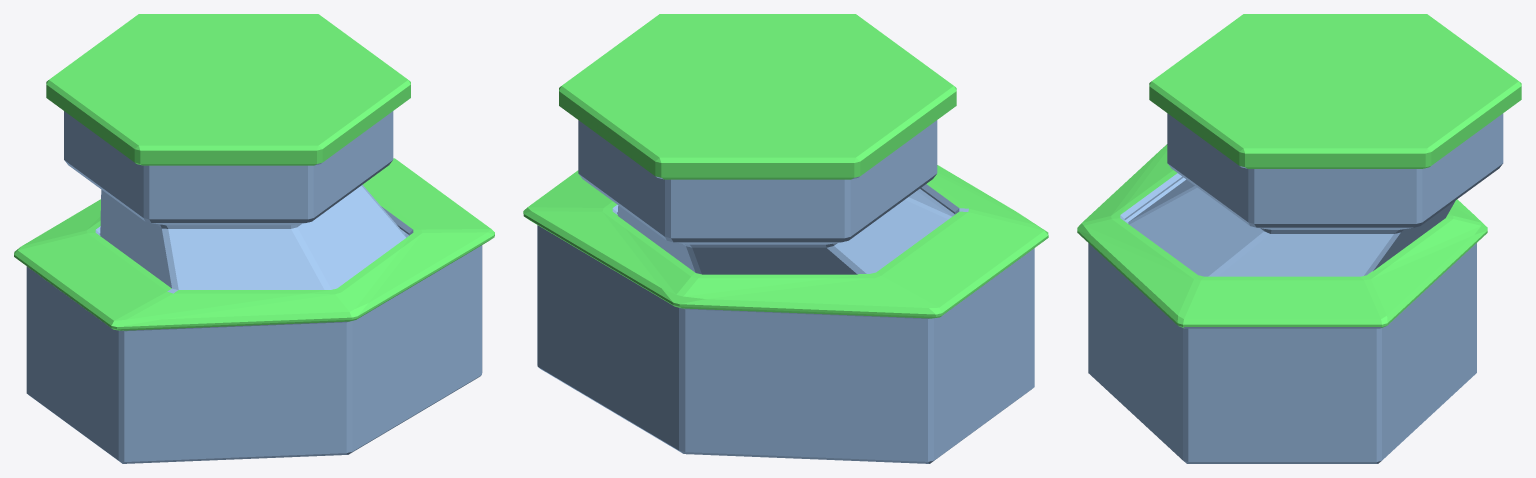
The model's file is Rock 2.fbx.
3 renders of one model, left to right at view 1: azimuth 30°, elevation 25°; view 2: azimuth 150°, elevation 25°; view 3: azimuth 270°, elevation 25°, orthographic. The views are drawn at different scales.
Visible parts, largest first — view 1: Rock 2; view 2: Rock 2; view 3: Rock 2.
Boxes of the visible parts, x1,y1,x2,y2 form: Rock 2: [14, 14, 494, 463]; Rock 2: [523, 14, 1048, 463]; Rock 2: [1077, 14, 1521, 463].
Size of the model in its own units: 266 by 191 by 261.
